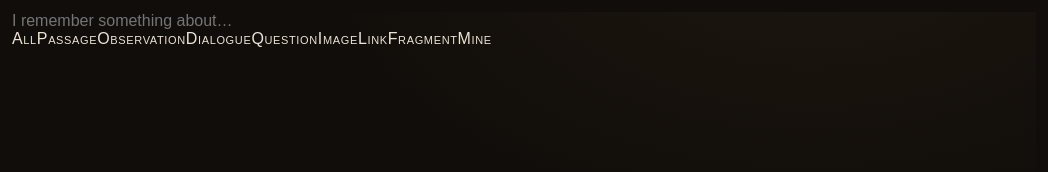
it: ForageView › finds a thing by its words
Type "tram" into the field at (524, 21), box [12,12,1036,30]
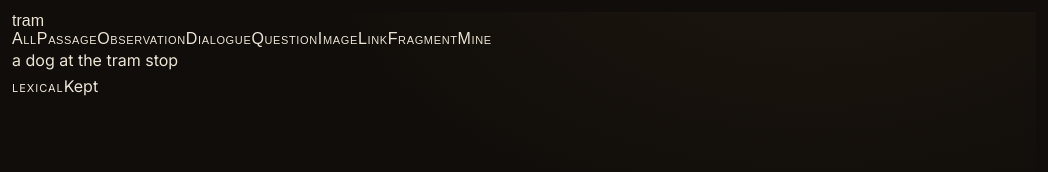
Expected: the text "a dog at the tram stop" is shown, [12,50,178,70]
